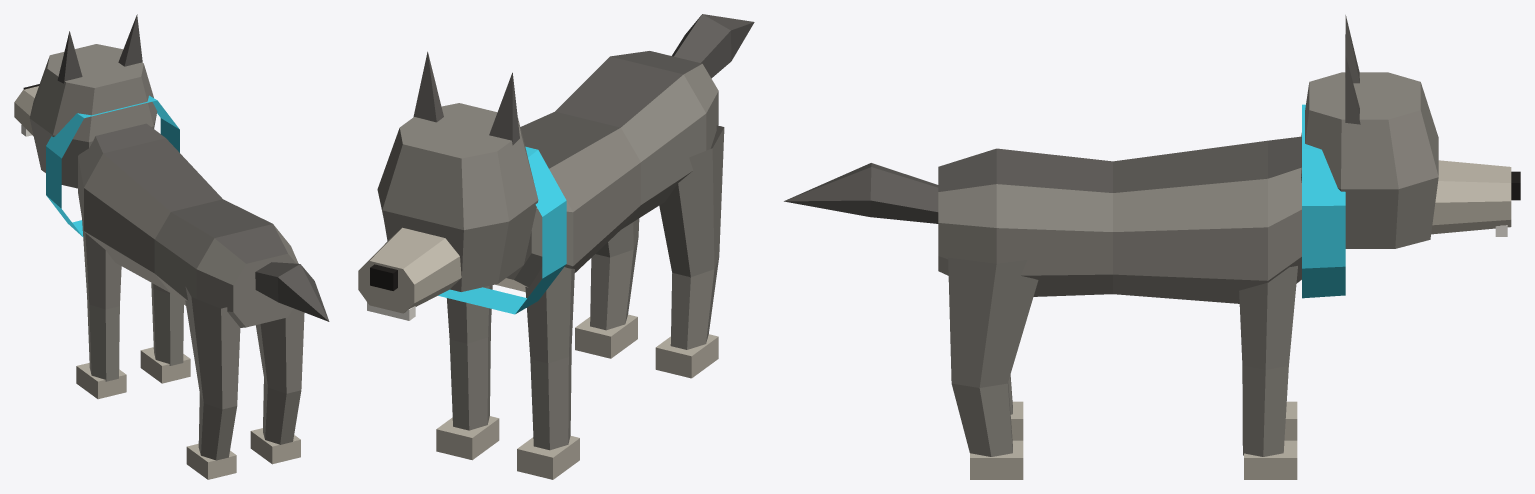
Rendered from CH_Wolf.fbx.
3 views of the same model, side by side, from view 1: azimuth 30°, elevation 25°; view 2: azimuth 150°, elevation 25°; view 3: azimuth 270°, elevation 25° (orthographic). The views are drawn at different scales.
Parts seen in each view (by area): view 1: Body, Head, LegL, LegR, ArmL, ArmR; view 2: Body, Head, LegL, ArmL, ArmR, LegR; view 3: Body, Head, LegR, ArmR.
Part boxes in pixels (bbox=[...]): Body: bbox=[46, 95, 329, 327]; Head: bbox=[14, 14, 157, 188]; LegL: bbox=[185, 287, 240, 479]; LegR: bbox=[250, 308, 304, 464]; ArmL: bbox=[76, 220, 126, 399]; ArmR: bbox=[140, 283, 190, 383]; Body: bbox=[438, 14, 754, 314]; Head: bbox=[358, 51, 538, 320]; LegL: bbox=[655, 125, 724, 378]; ArmL: bbox=[517, 266, 579, 479]; ArmR: bbox=[436, 285, 499, 460]; LegR: bbox=[575, 218, 639, 358]; Body: bbox=[784, 104, 1345, 303]; Head: bbox=[1301, 15, 1520, 248]; LegR: bbox=[948, 258, 1038, 479]; ArmR: bbox=[1239, 266, 1297, 479].
Size of the model in its own units: 0.35 by 1.52 by 0.95.
